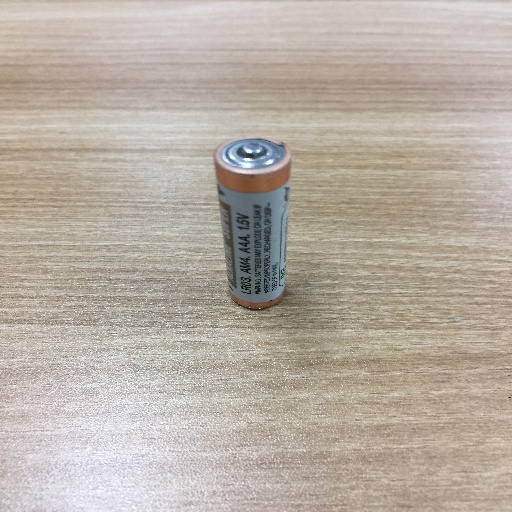Battery_0: (203, 129, 306, 322)
